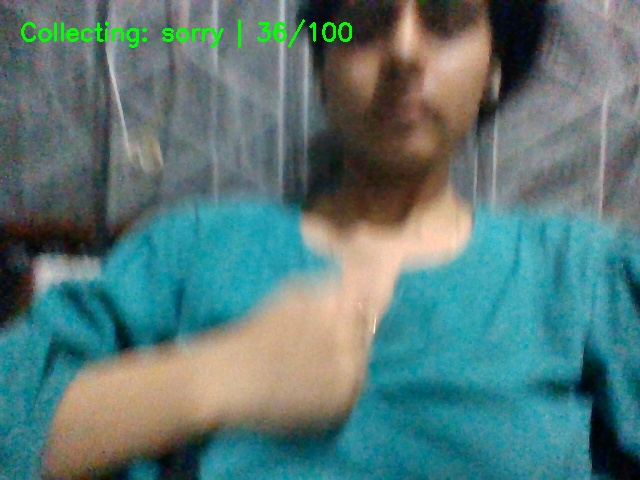sorry: (200, 223, 442, 466)
